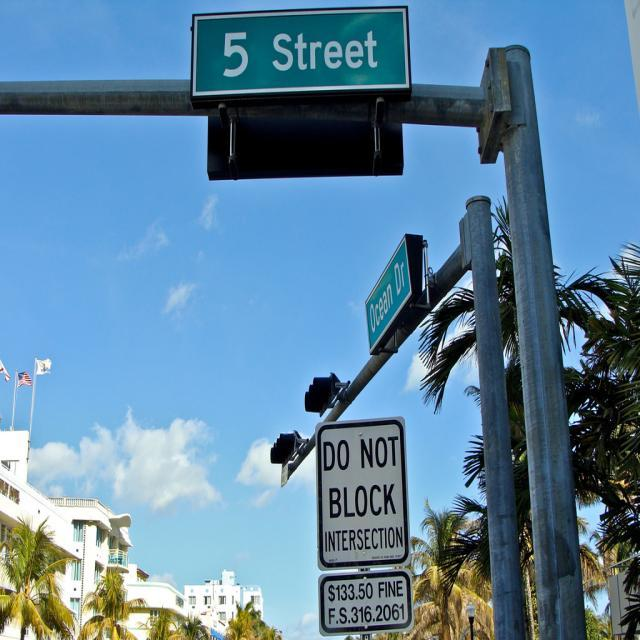off traffic light: (303, 373, 340, 417), (269, 428, 304, 467)
